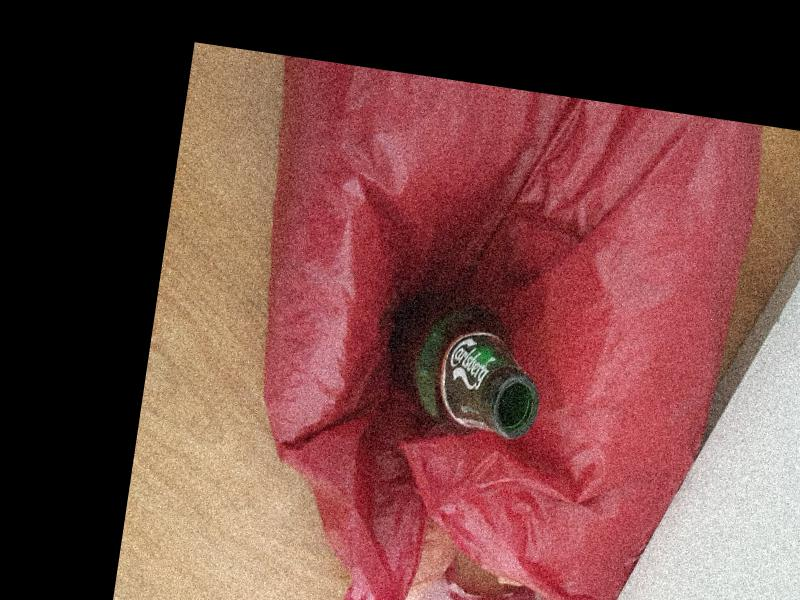Beer: (377, 293, 550, 442)
